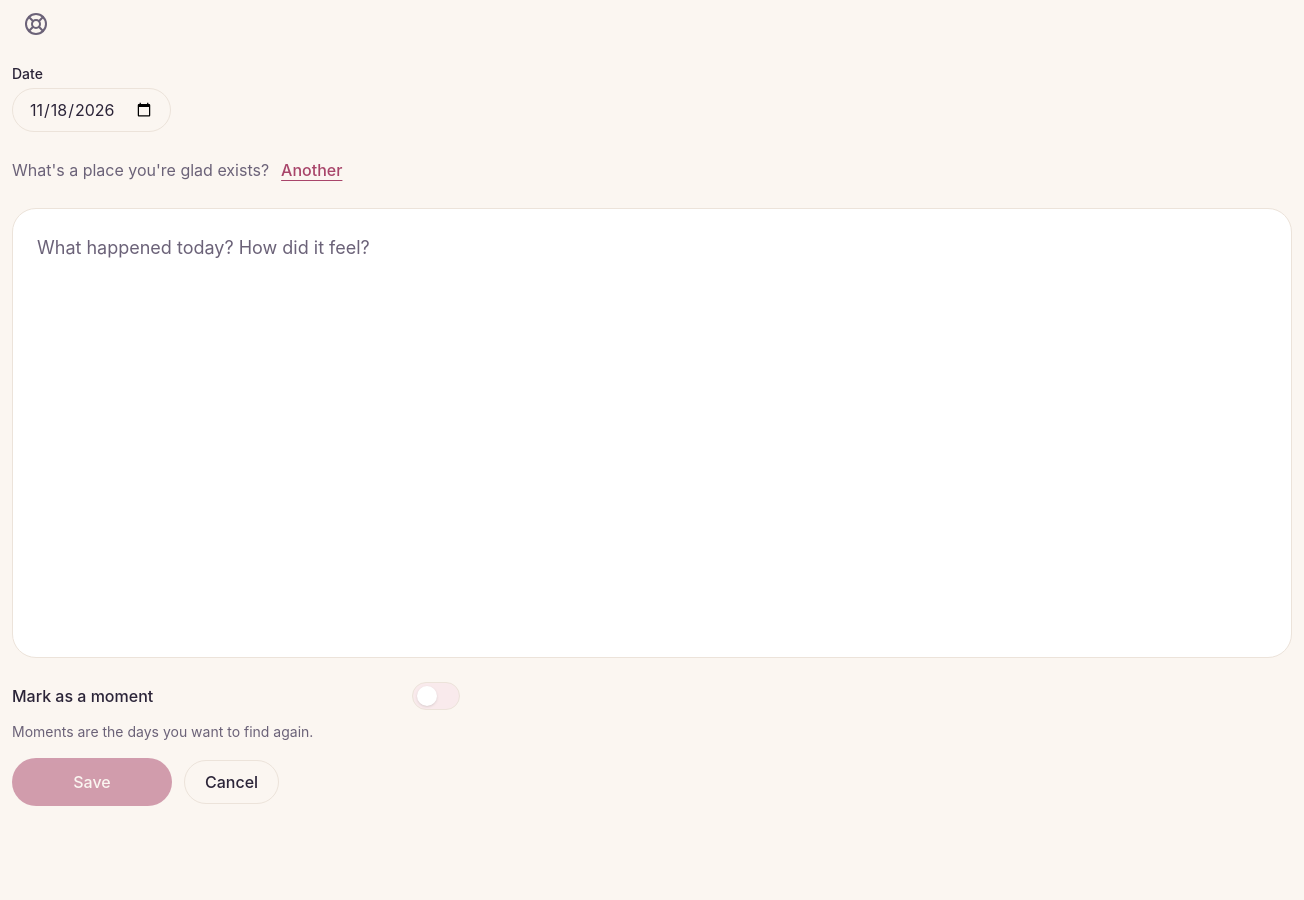
the editor's mood prompt › Plus: from the saved place in the group; Another steps on and saves it, wrapping
The image size is (1304, 900).
Expected: the text with test id "entry-prompt-text" reads "What's a place you're glad exists?", [12,160,269,180]
Click the button with test id "entry-prompt-another" at (312, 170), box [281,148,342,192]
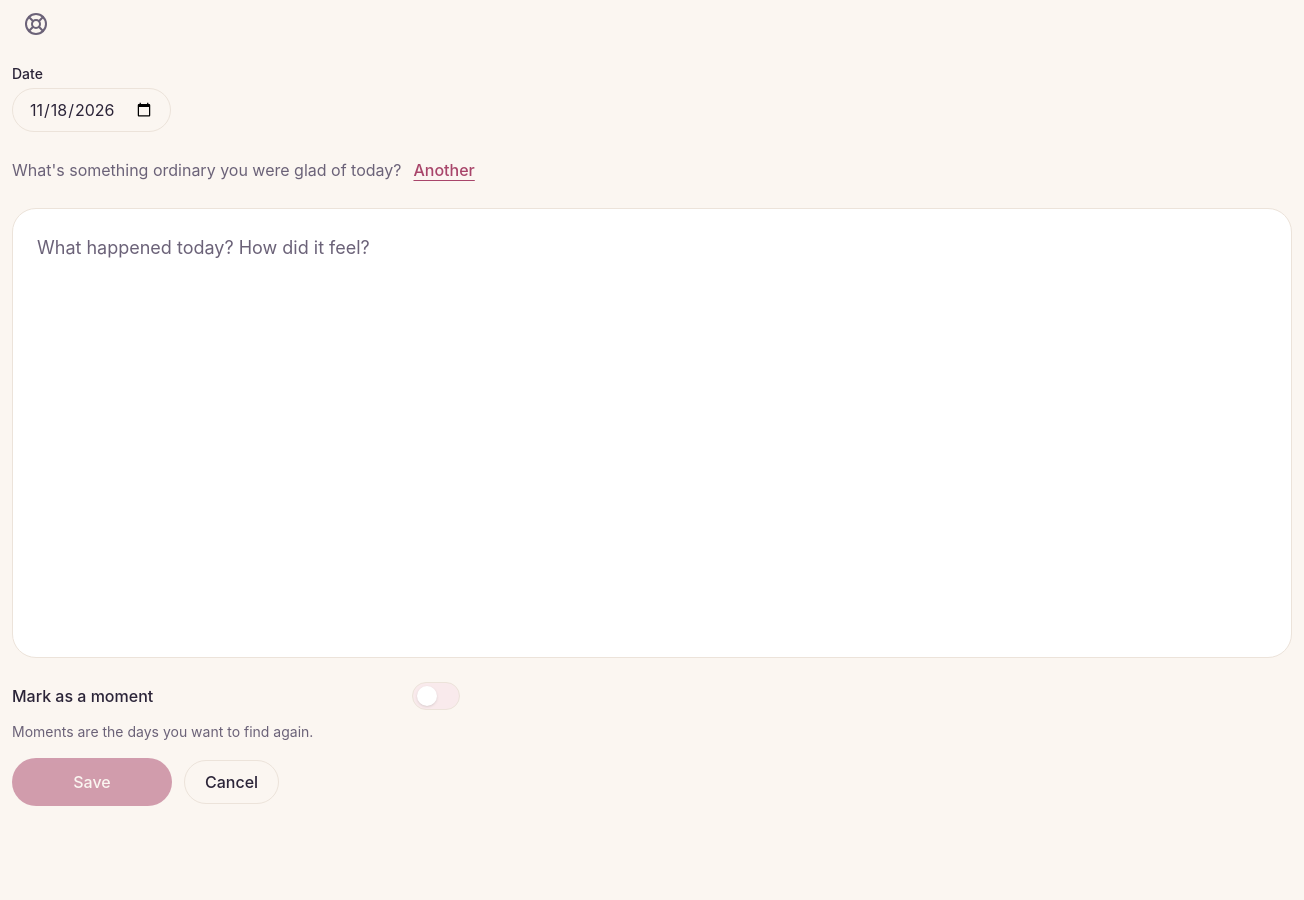
Now the text with test id "entry-prompt-text" reads "What's something ordinary you were glad of today?", box [12,160,402,180]
